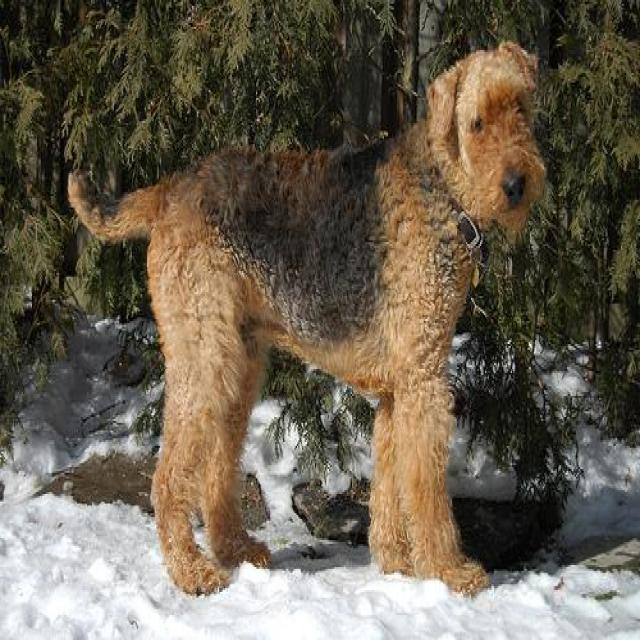airedale: (63, 34, 549, 600)
